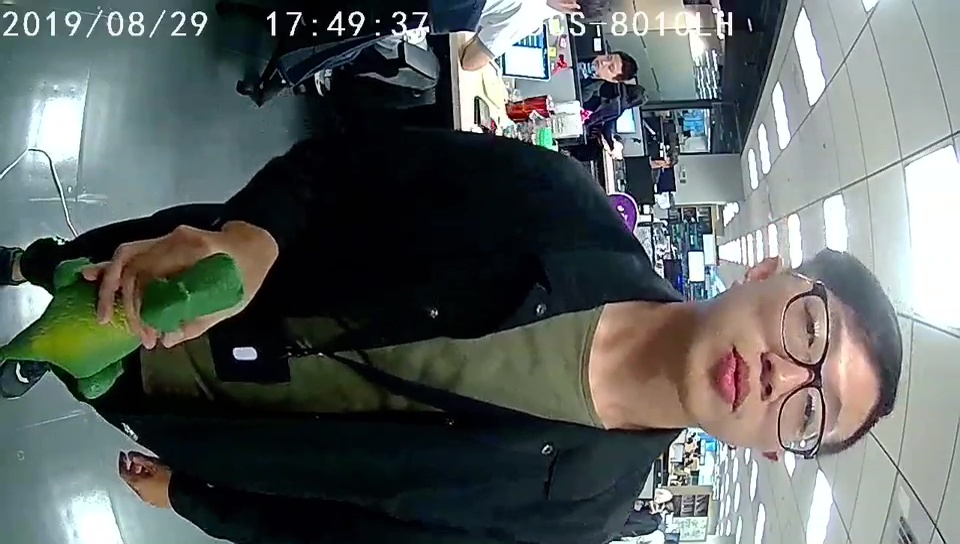rex: (23, 250, 246, 400)
